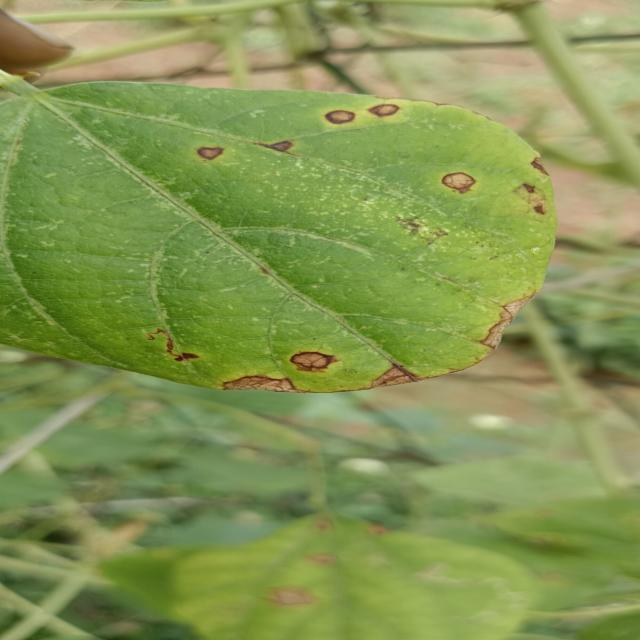Dolicos bean_cercospora leaf spot: (4, 77, 562, 394)
